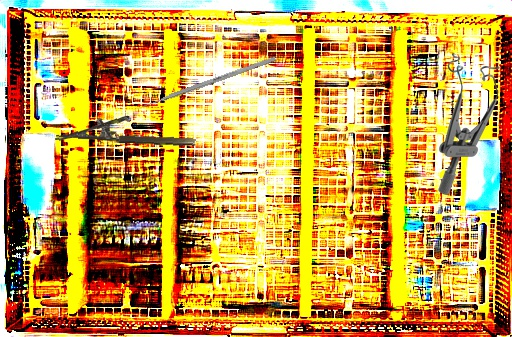Needle Holder: (55, 112, 197, 148)
Pusher: (130, 55, 277, 114)
Speculum: (438, 52, 500, 195)
